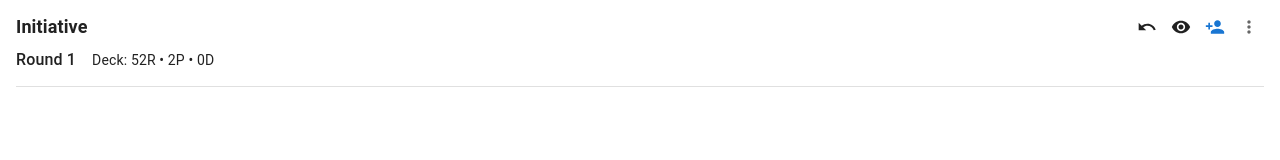
Test case: HeaderBar privacy tooltip › closes when the toggle is clicked and stays closed after the mouse leaves
This screenshot has width=1280, height=160.
Hover over the button named "Enable privacy" at (1181, 27), box [1166,12,1196,42]
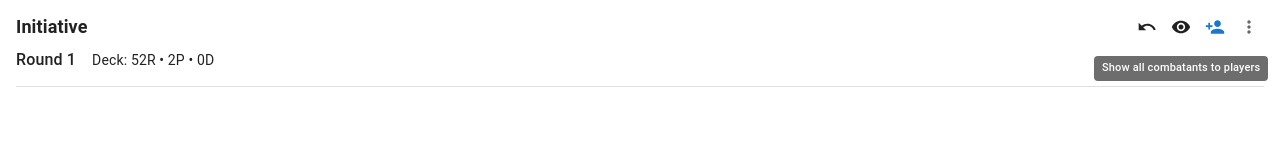
expect the tooltip reads "Show all combatants to players": met, box [1102,61,1260,74]
Click the button named "Enable privacy" at (1181, 27), box [1166,12,1196,42]
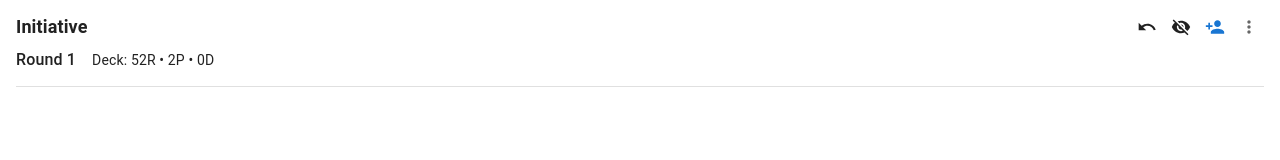
expect the tooltip "Show all combatants to players" is gone: met
Move the pointer off the button named "Enable privacy", box [1166,12,1196,42]
expect the tooltip "Show all combatants to players" is not shown: met
Note: Hovering again shows the new title.
Hover over the button named "Disable privacy" at (1181, 27), box [1166,12,1196,42]
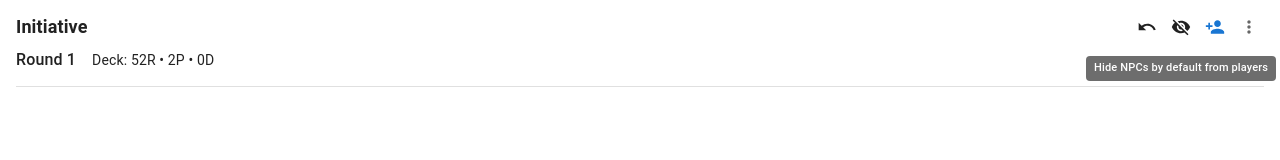
expect the tooltip reads "Hide NPCs by default from players": met, box [1094,61,1268,74]
